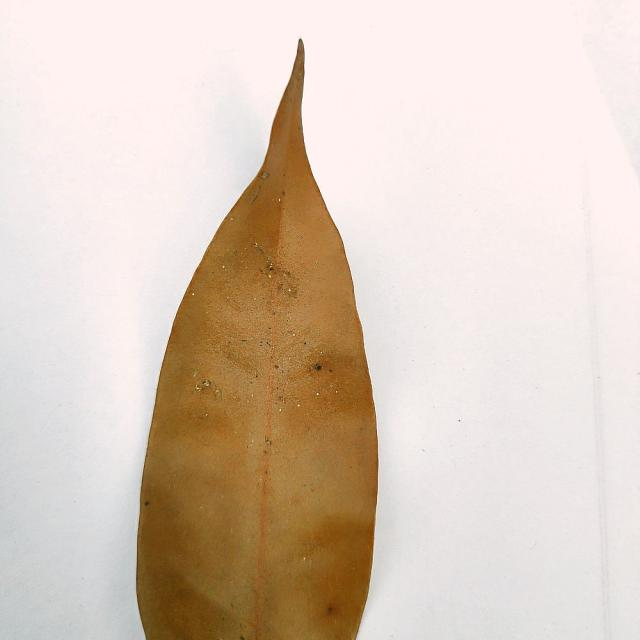Dry_Leaf-Lychee: (134, 40, 380, 639)
